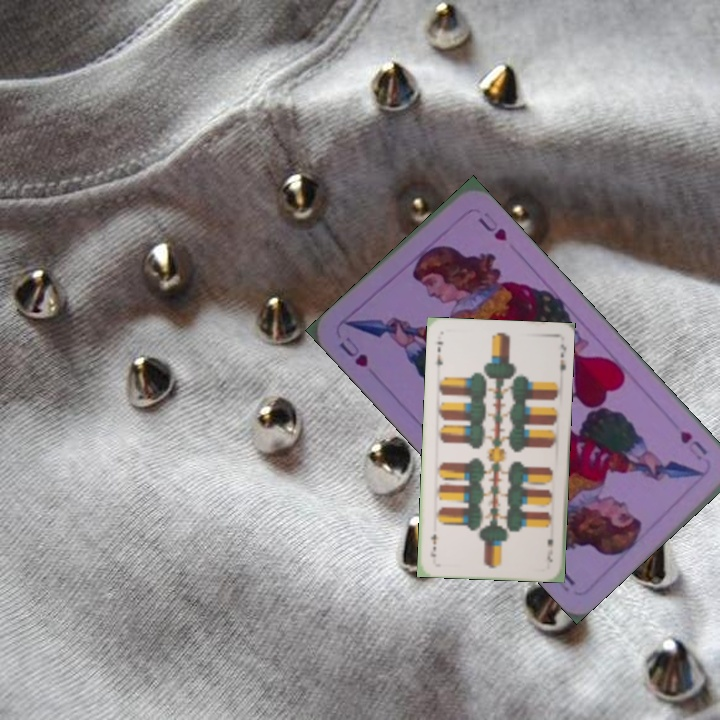E7: (543, 534, 556, 565), (433, 337, 445, 368)
HU: (335, 332, 371, 370), (676, 426, 710, 464)
